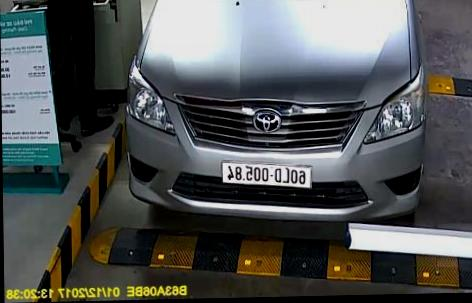License_Plate: (219, 158, 313, 186)
